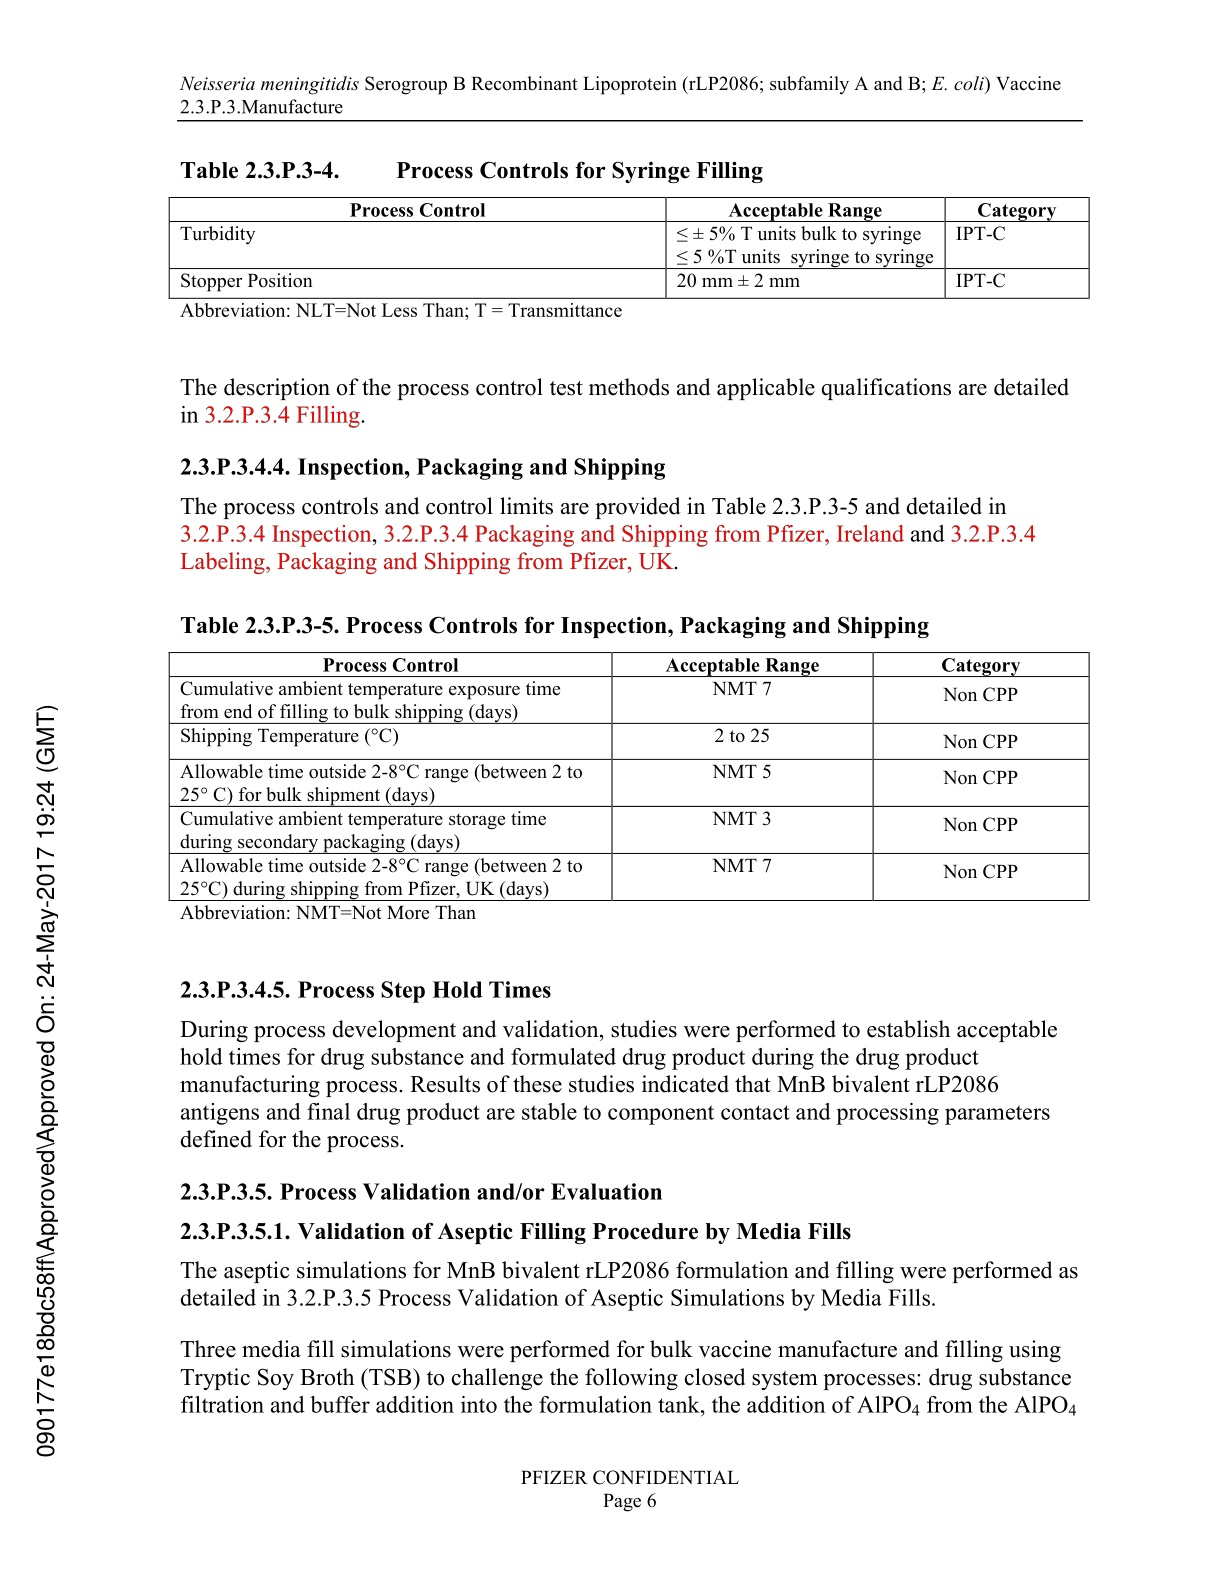full_lined: (168, 651, 1090, 901), (168, 195, 1090, 300)
